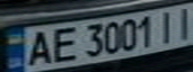0: (103, 18, 124, 54), (118, 17, 139, 52)
1: (133, 12, 157, 48)
3: (78, 20, 106, 58)
A: (21, 27, 57, 69)
E: (45, 25, 81, 64)
I: (154, 7, 181, 43), (172, 3, 193, 41)
